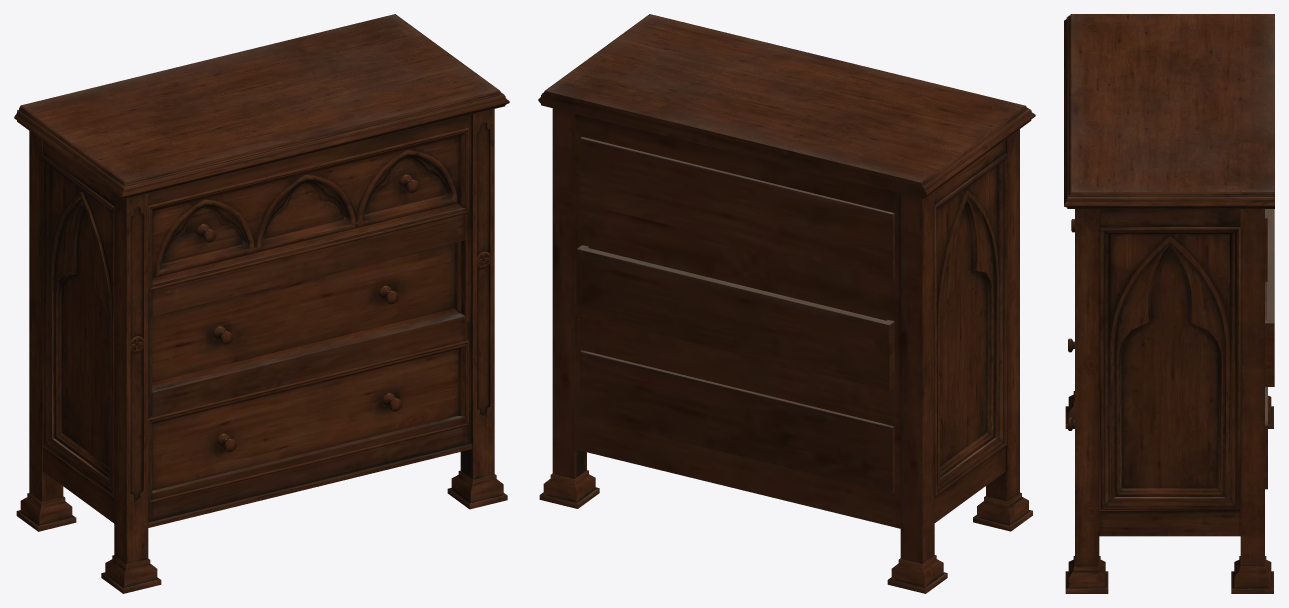
File: gothic_commode_01.glb
The picture shows the model from 3 angles, left to right: view 1: azimuth 30°, elevation 25°; view 2: azimuth 150°, elevation 25°; view 3: azimuth 270°, elevation 25°; orthographic projection. The views are drawn at different scales.
Parts seen in each view (by area): view 1: GothicCommode_01; view 2: GothicCommode_01; view 3: GothicCommode_01.
Boxes of the visible parts, x1,y1,x2,y2 form: GothicCommode_01: [14, 14, 509, 593]; GothicCommode_01: [538, 14, 1035, 593]; GothicCommode_01: [1064, 14, 1274, 593].
Size of the model in its own units: 1.2 by 1.21 by 0.5807.
Materials: 1 (1 with a texture image).
